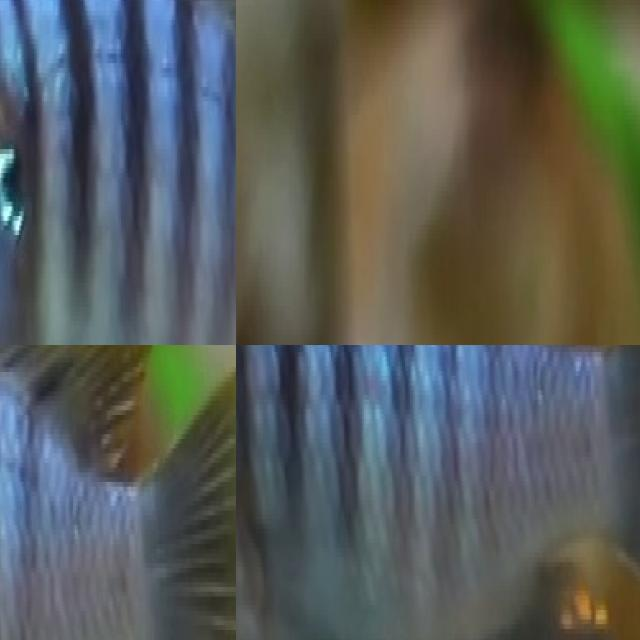fish: (0, 0, 236, 345), (0, 345, 236, 640), (327, 0, 640, 76)
